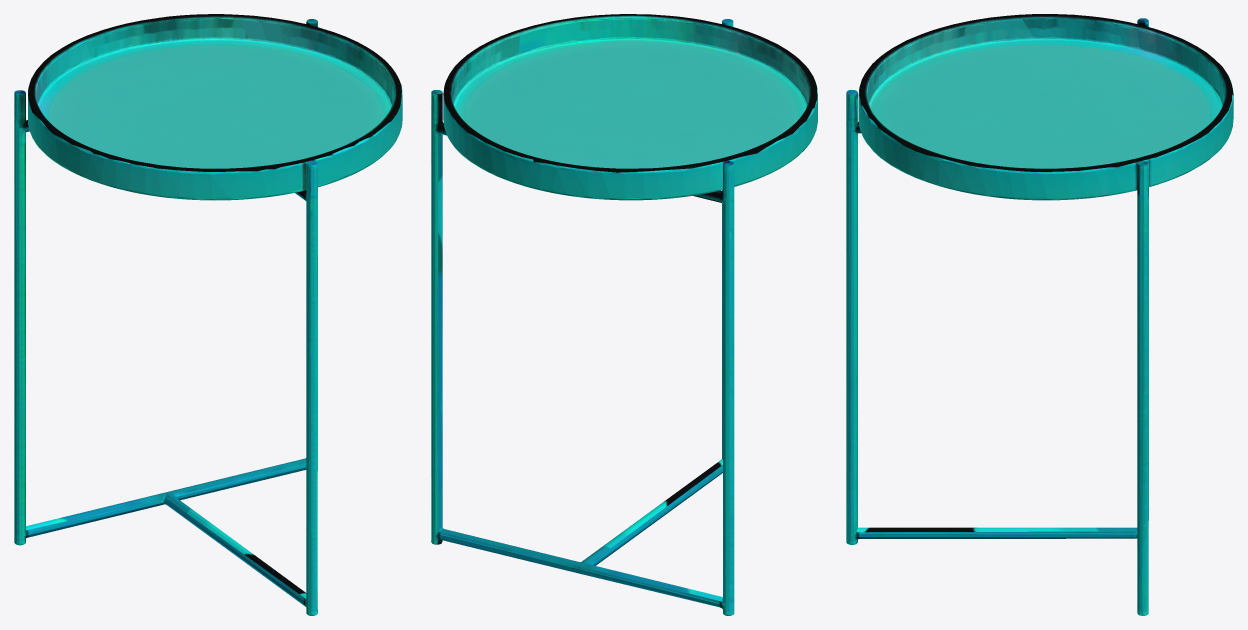
File: edited_mesh.glb
The picture shows the model from 3 angles, left to right: view 1: azimuth 30°, elevation 25°; view 2: azimuth 150°, elevation 25°; view 3: azimuth 270°, elevation 25°; orthographic projection.
Parts seen in each view (by area): view 1: normalized_model.obj; view 2: normalized_model.obj; view 3: normalized_model.obj.
Part boxes in pixels (x1,y1,x2,y2): normalized_model.obj: (14,14,402,615); normalized_model.obj: (431,14,817,615); normalized_model.obj: (846,14,1233,615).
Size of the model in its own units: 1.09 by 1.44 by 1.12.
Materials: 1 (1 with a texture image).
